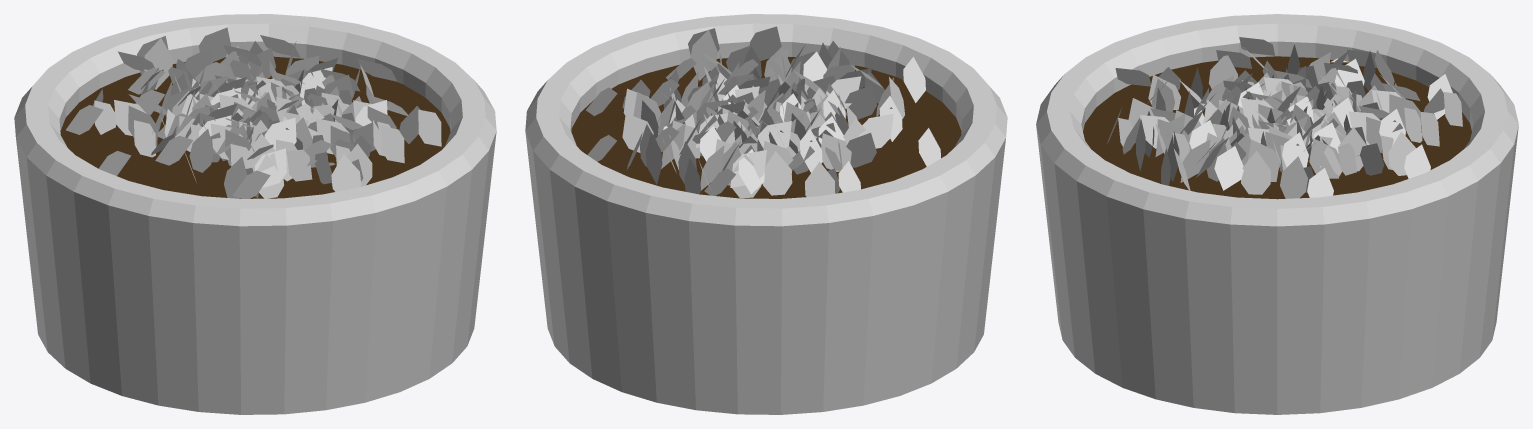
Rendered from KLUMBA MALENIKA.fbx.
3 renders of one model, left to right at view 1: azimuth 30°, elevation 25°; view 2: azimuth 150°, elevation 25°; view 3: azimuth 270°, elevation 25°, orthographic.
Parts seen in each view (by area): view 1: Cylinder.002, Plane.017, Plane.006, Plane.005; view 2: Cylinder.002, Plane.017, Plane.006, Plane.005; view 3: Cylinder.002, Plane.017, Plane.006, Plane.005.
Boxes of the visible parts, x1,y1,x2,y2 form: Cylinder.002: (14, 14, 496, 414); Plane.017: (92, 35, 441, 198); Plane.006: (66, 27, 387, 198); Plane.005: (68, 29, 387, 198); Cylinder.002: (525, 14, 1007, 414); Plane.017: (586, 26, 904, 197); Plane.006: (622, 41, 940, 195); Plane.005: (623, 43, 940, 195); Cylinder.002: (1036, 14, 1518, 414); Plane.017: (1122, 44, 1452, 197); Plane.006: (1107, 37, 1462, 198); Plane.005: (1108, 38, 1462, 198).
Bounding box in the file's own units: 72.49 × 38.41 × 72.49.
